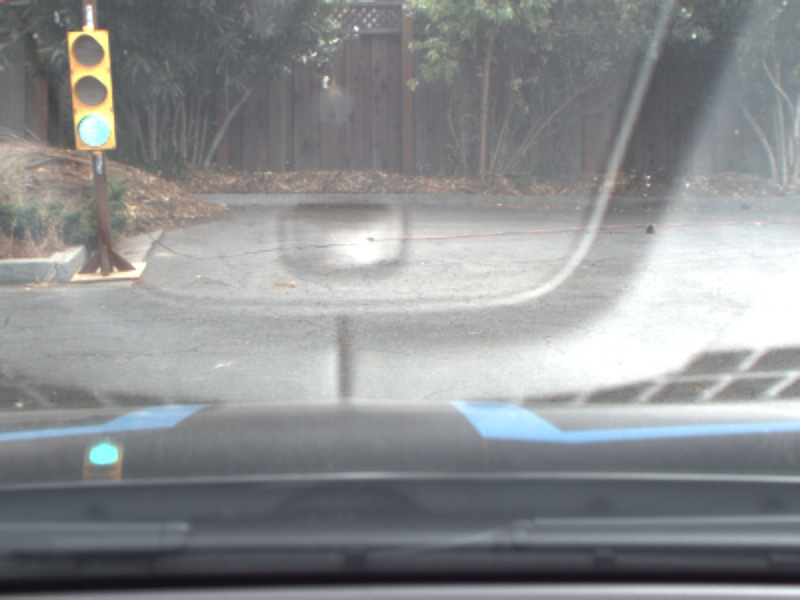green: (59, 20, 121, 153)
